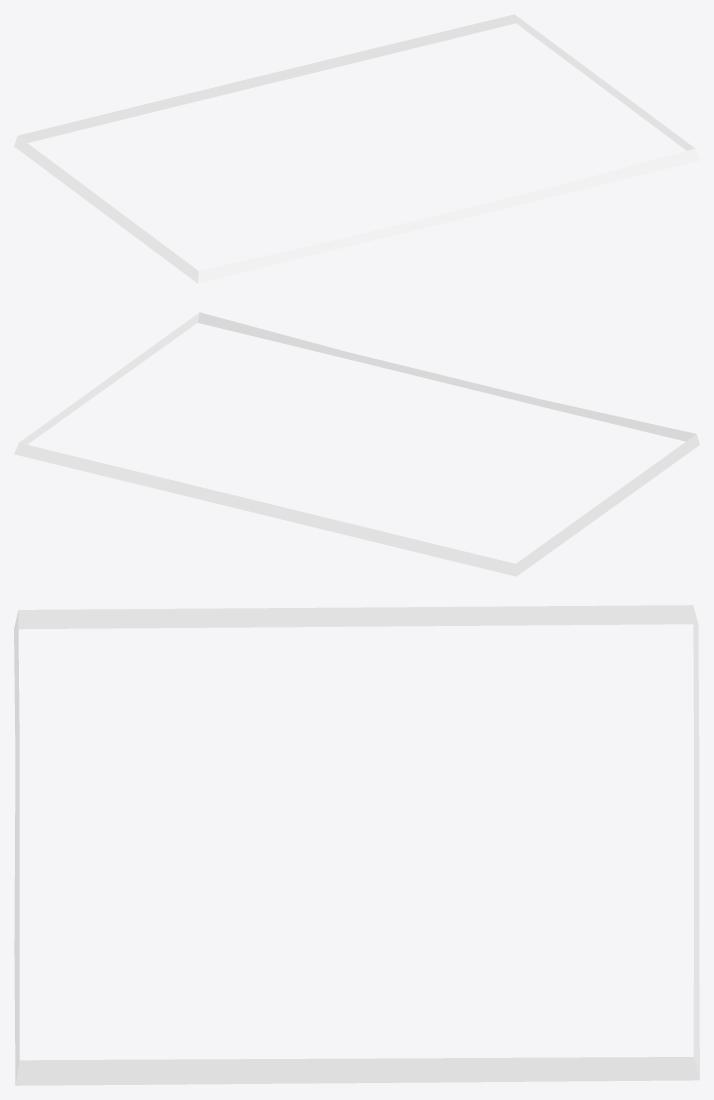
The model's file is Lid_Edge_Glow.fbx.
3 renders of one model, top to bottom at view 1: azimuth 30°, elevation 25°; view 2: azimuth 150°, elevation 25°; view 3: azimuth 270°, elevation 25°, orthographic. The views are drawn at different scales.
Visible parts, largest first — view 1: Lid_Edge_Glow; view 2: Lid_Edge_Glow; view 3: Lid_Edge_Glow.
Boxes of the visible parts, x1,y1,x2,y2 form: Lid_Edge_Glow: (14, 14, 699, 283); Lid_Edge_Glow: (14, 312, 699, 576); Lid_Edge_Glow: (14, 605, 699, 1085).
Size of the model in its own units: 159 by 4.27 by 101.
